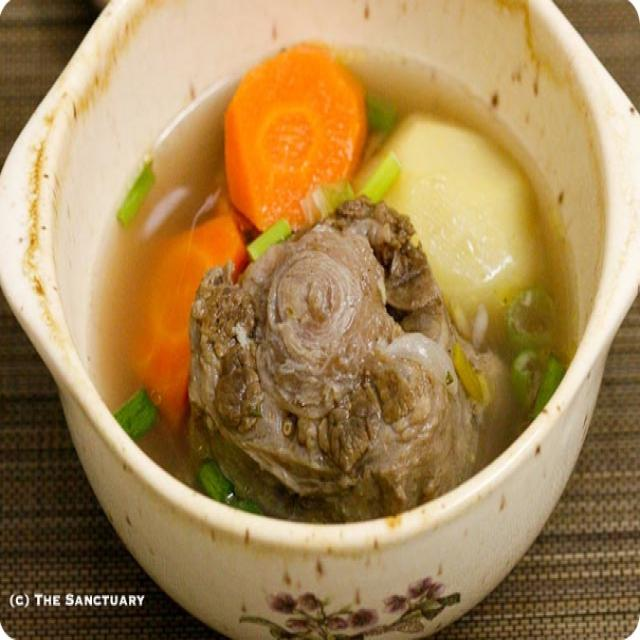汤锅炖物: (34, 28, 623, 586)
